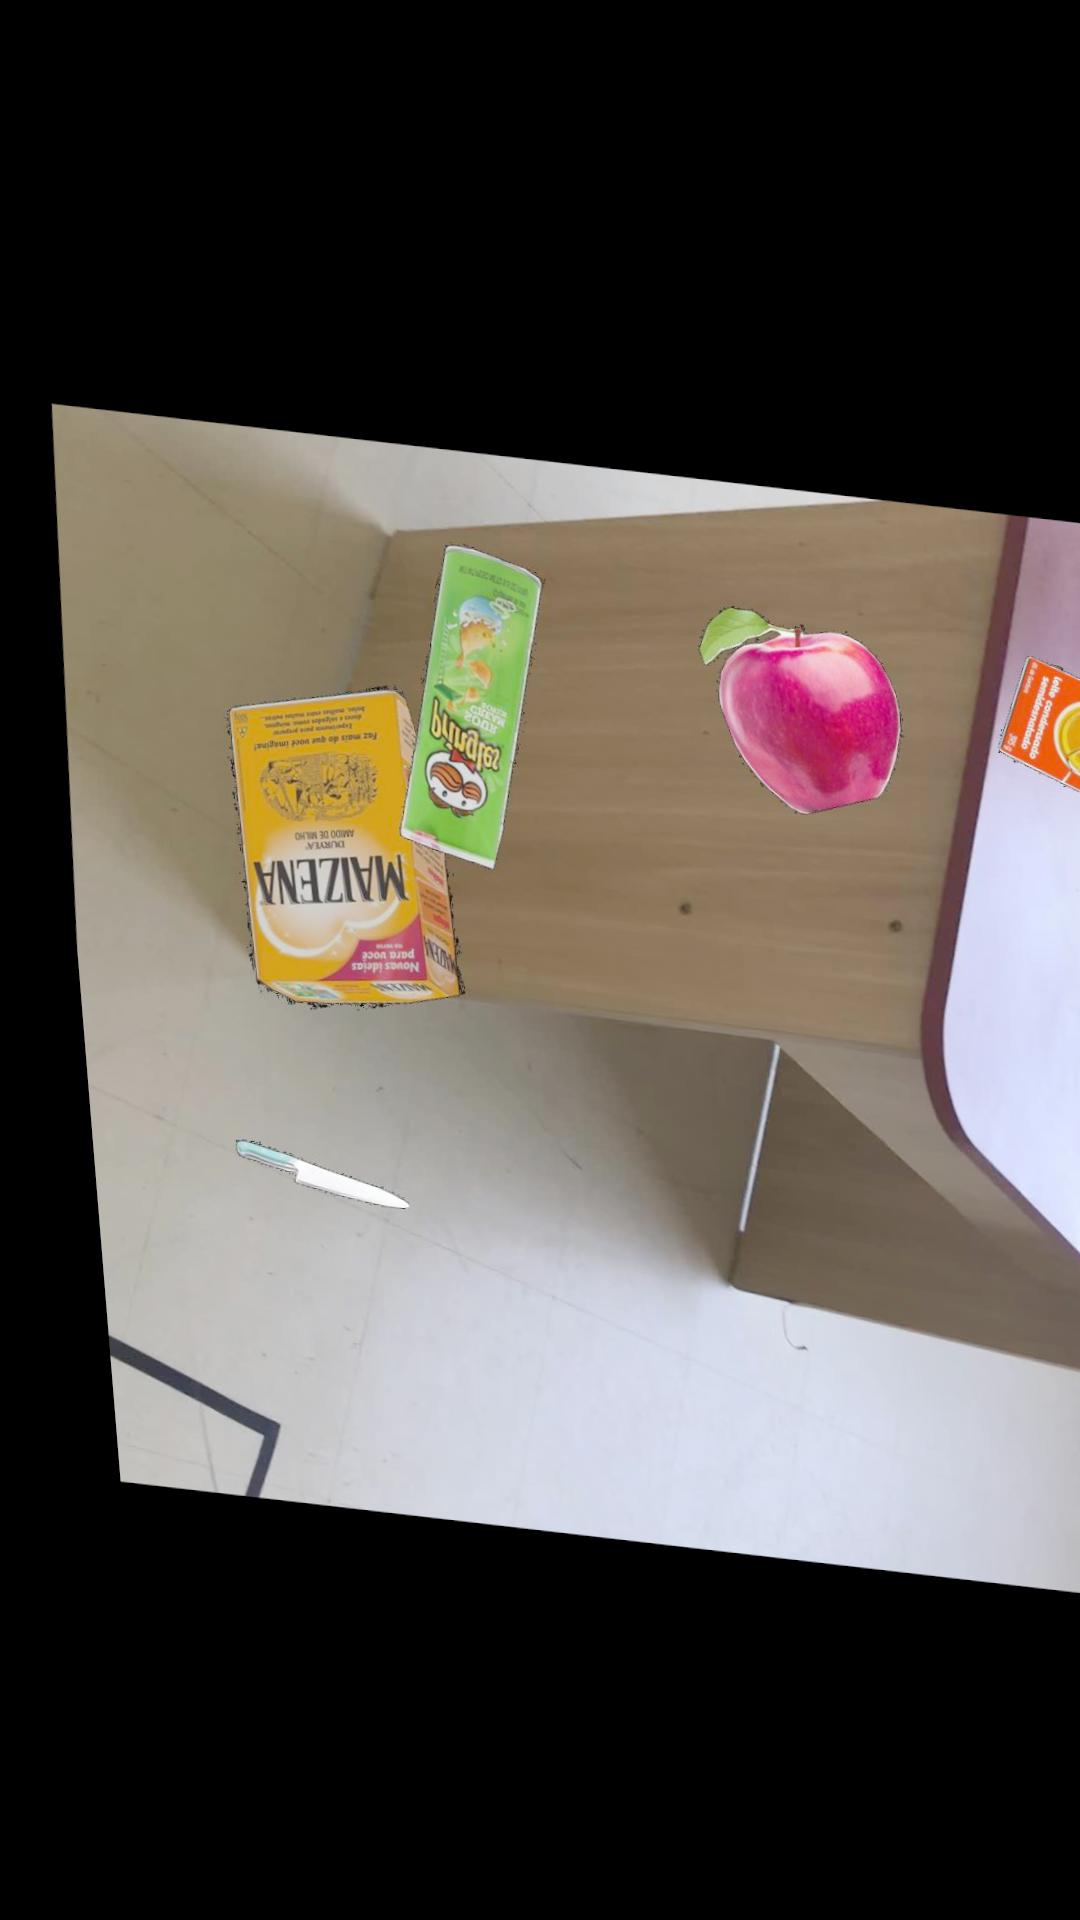apple: (690, 595, 893, 803)
knife: (218, 1138, 390, 1204)
pringles: (388, 539, 537, 862)
